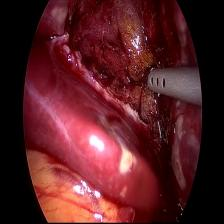Irrigator: (144, 62, 178, 98)
